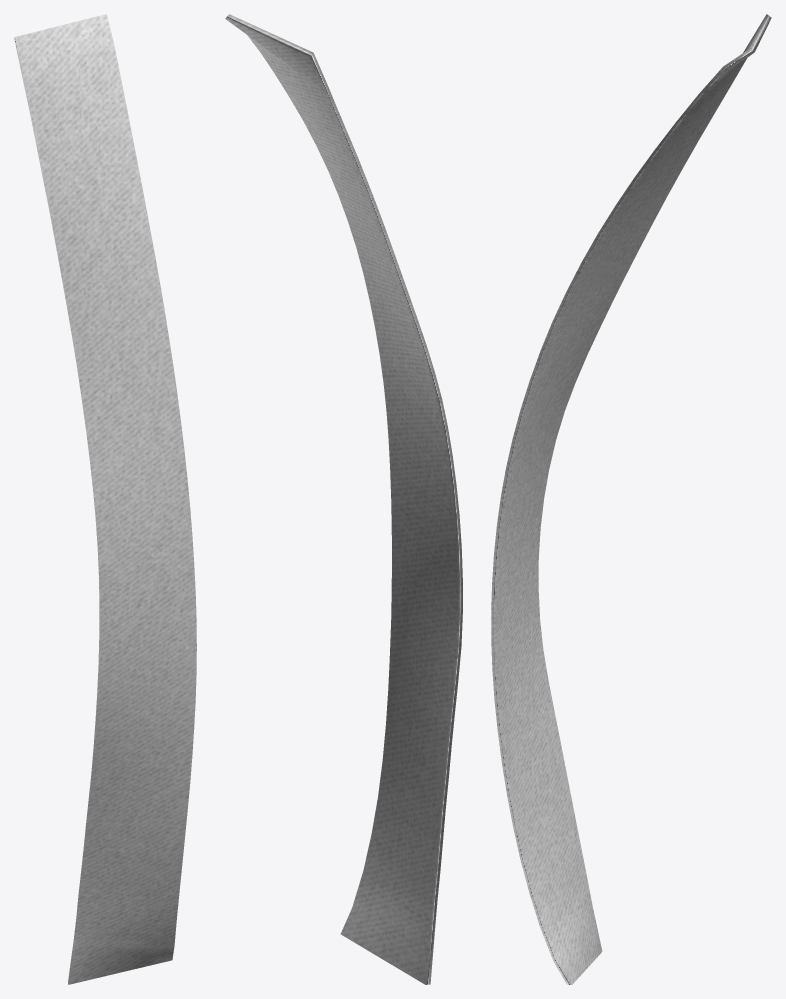
The model's file is Jac_Pocket_LEFT_V1_Dop.glb.
3 renders of one model, left to right at view 1: azimuth 30°, elevation 25°; view 2: azimuth 150°, elevation 25°; view 3: azimuth 270°, elevation 25°, orthographic. The views are drawn at different scales.
Parts seen in each view (by area): view 1: Jac_Pocket_LEFT_V1_Dop1; view 2: Jac_Pocket_LEFT_V1_Dop1; view 3: Jac_Pocket_LEFT_V1_Dop1.
Part boxes in pixels (x1,y1,x2,y2): Jac_Pocket_LEFT_V1_Dop1: (14,14,196,984); Jac_Pocket_LEFT_V1_Dop1: (225,14,462,984); Jac_Pocket_LEFT_V1_Dop1: (491,14,771,984).
Size of the model in its own units: 0.0327 by 0.2519 by 0.0668.
Materials: 1 (1 with a texture image).
